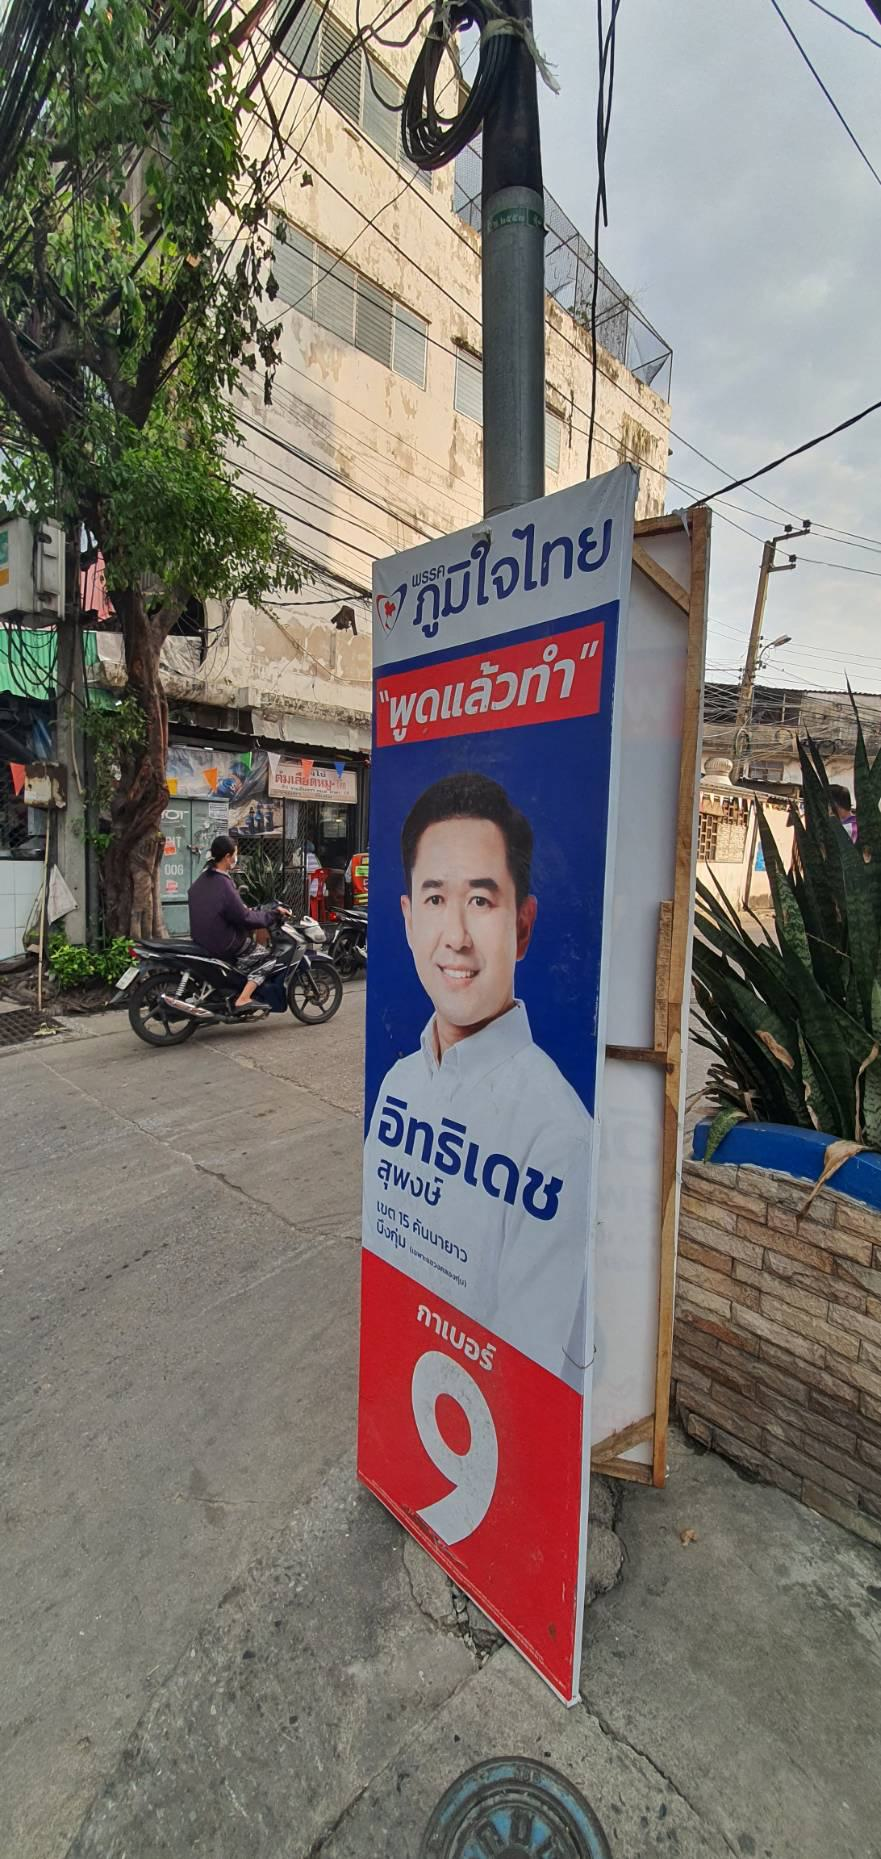Banner: (314, 447, 649, 1719)
